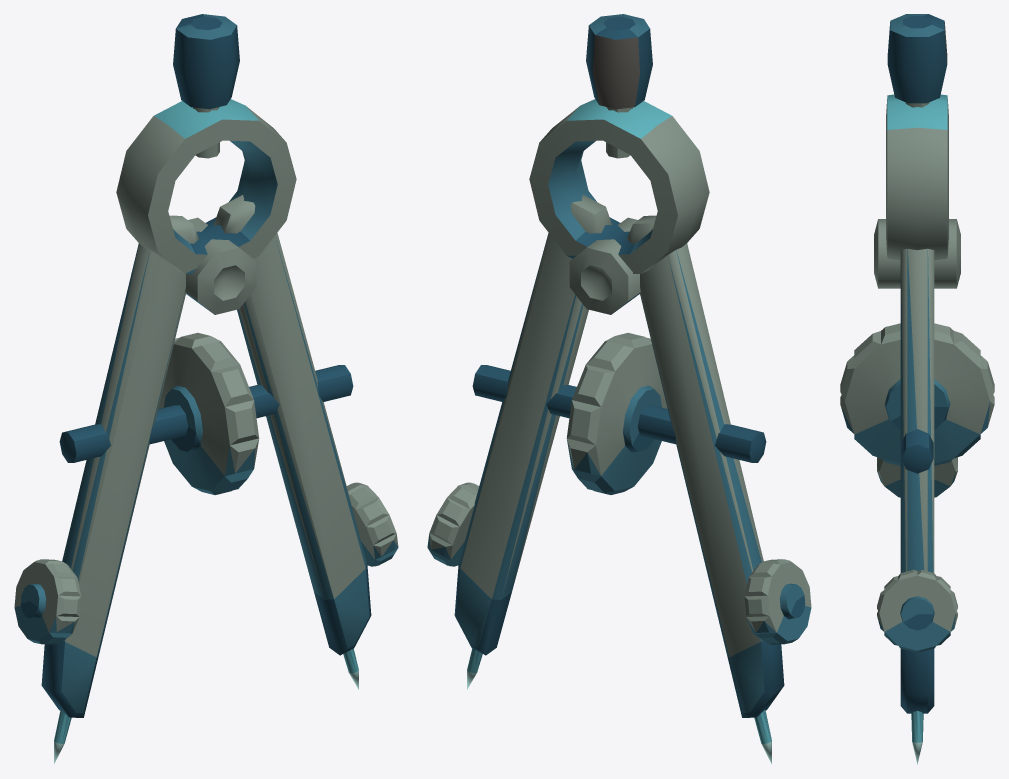
Rendered from itch_kaykit_rpg_tools_drafting_compass.glb.
3 views of the same model, side by side, from view 1: azimuth 30°, elevation 25°; view 2: azimuth 150°, elevation 25°; view 3: azimuth 270°, elevation 25° (orthographic). The views are drawn at different scales.
Parts seen in each view (by area): view 1: drafting_compass, drafting_compass_legRight, drafting_compass_legLeft, drafting_compass_wheel; view 2: drafting_compass, drafting_compass_legRight, drafting_compass_legLeft, drafting_compass_wheel; view 3: drafting_compass, drafting_compass_legLeft, drafting_compass_wheel, drafting_compass_legRight.
Part boxes in pixels (<box>): drafting_compass: <box>59,14,353,462</box>; drafting_compass_legRight: <box>14,215,198,763</box>; drafting_compass_legLeft: <box>214,195,398,689</box>; drafting_compass_wheel: <box>158,332,259,494</box>; drafting_compass: <box>472,14,766,462</box>; drafting_compass_legRight: <box>627,215,811,763</box>; drafting_compass_legLeft: <box>427,195,611,689</box>; drafting_compass_wheel: <box>566,332,667,494</box>; drafting_compass: <box>874,14,960,473</box>; drafting_compass_legLeft: <box>877,248,957,764</box>; drafting_compass_wheel: <box>840,323,994,465</box>; drafting_compass_legRight: <box>877,457,957,497</box>.
Bounding box in the file's own units: 1.13 × 2.1 × 0.4367.
